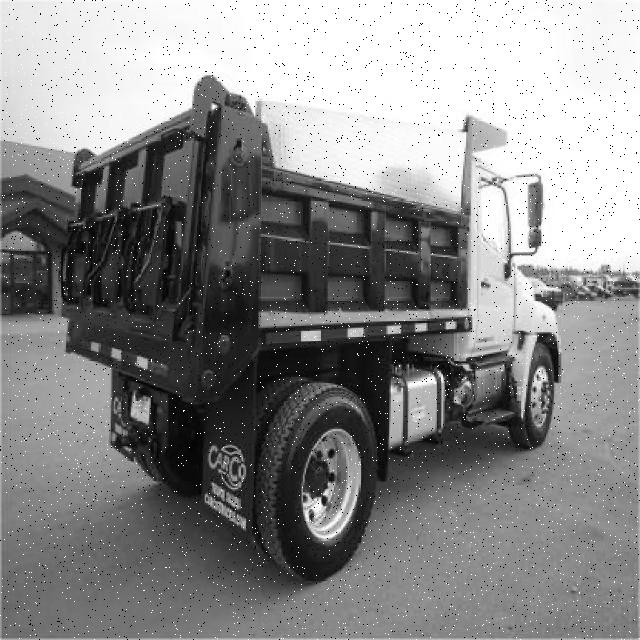Truck- 2-Axle: (60, 76, 565, 585)
